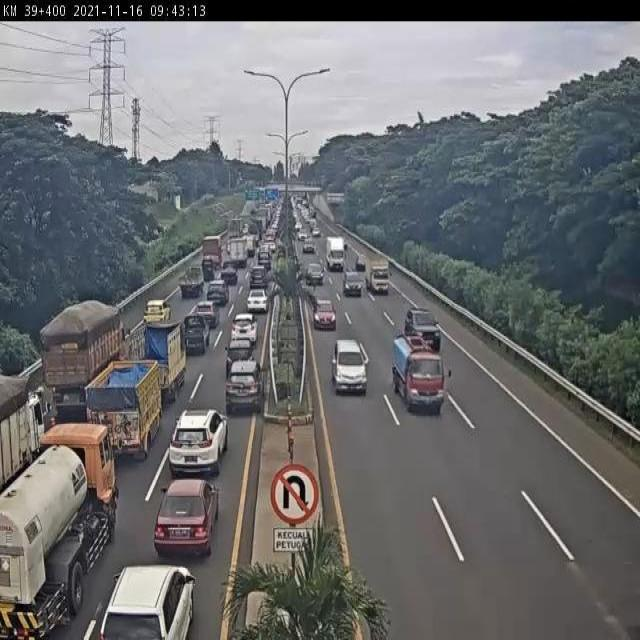Car: (99, 564, 193, 638), (153, 478, 220, 559), (169, 408, 229, 478), (331, 338, 368, 396), (225, 359, 264, 414), (404, 307, 440, 351), (183, 313, 211, 355), (229, 314, 259, 352), (191, 301, 218, 331), (312, 297, 336, 330), (250, 256, 270, 289), (144, 299, 171, 323), (206, 279, 229, 306), (246, 288, 269, 314), (343, 270, 365, 296), (305, 262, 325, 286), (220, 263, 238, 285), (257, 251, 271, 272), (355, 254, 366, 272), (303, 238, 315, 252), (297, 230, 308, 241), (312, 228, 320, 238)
Truck: (0, 434, 115, 638), (40, 299, 127, 422), (86, 360, 163, 460), (0, 378, 49, 510), (391, 331, 446, 413), (142, 308, 190, 401), (202, 233, 225, 277), (226, 237, 250, 270), (368, 260, 391, 294), (179, 268, 204, 298), (326, 236, 346, 272)
